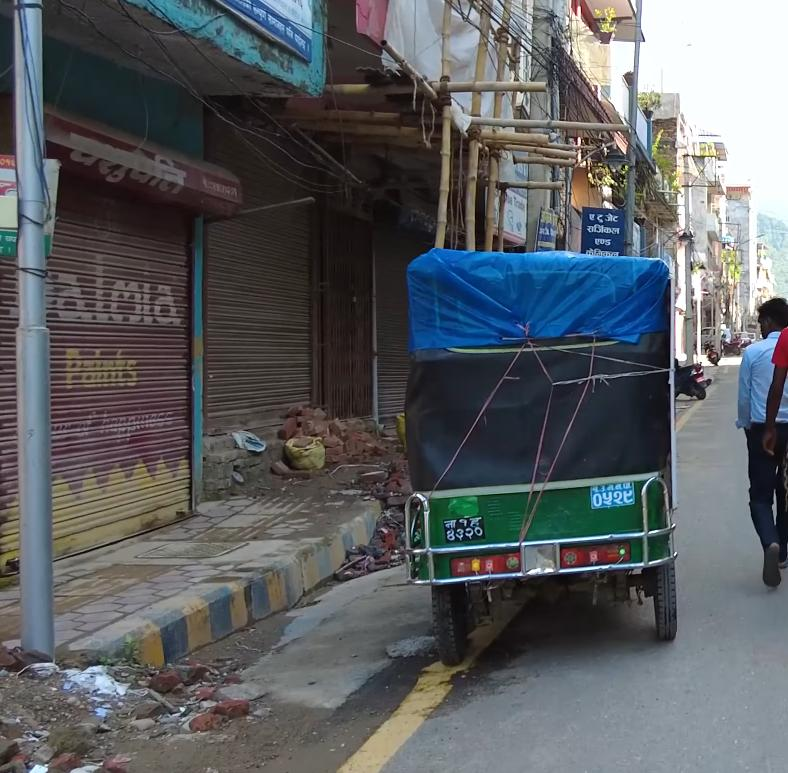e-rickshaw: (393, 234, 694, 676)
